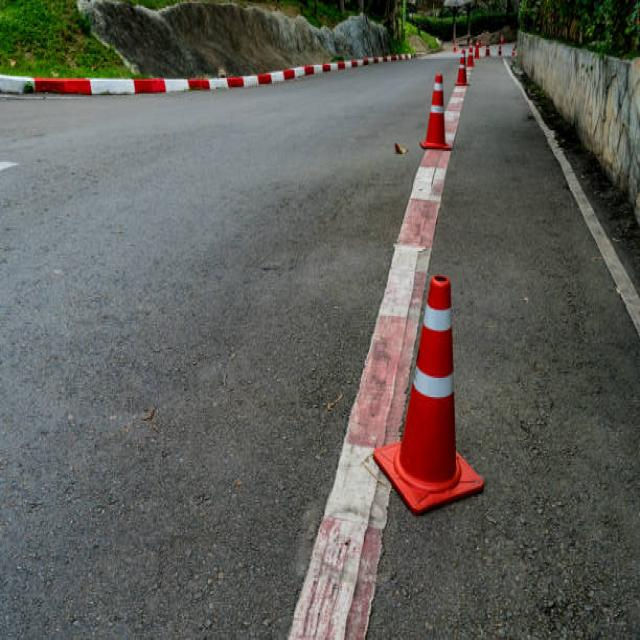Traffic Cone: (365, 236, 502, 542), (408, 60, 463, 176)
